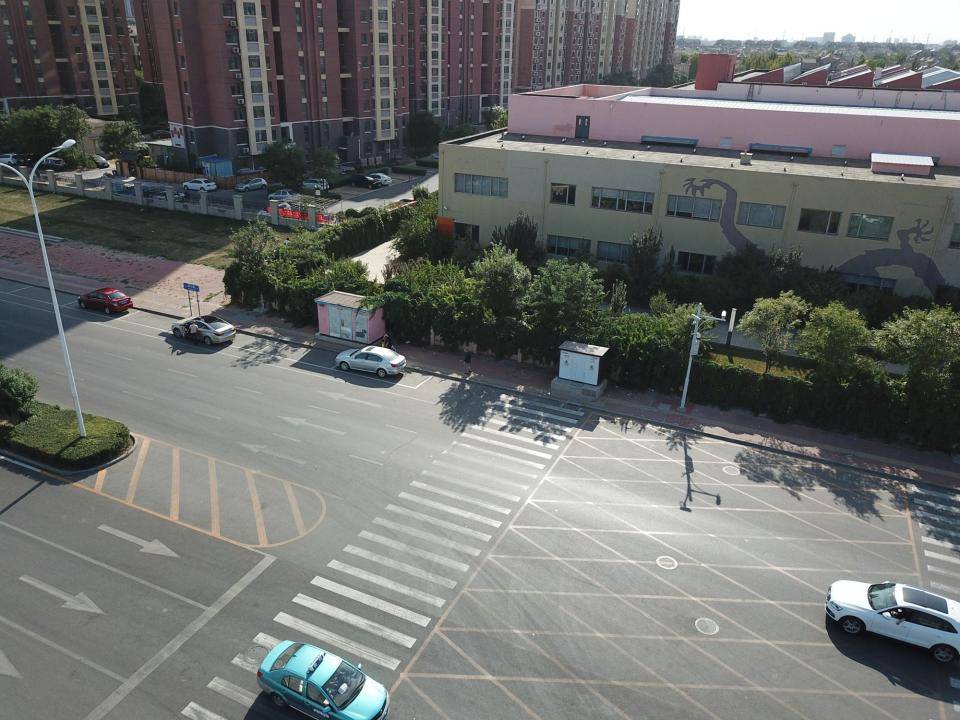car: (826, 578, 959, 663), (257, 639, 390, 720), (335, 346, 407, 377), (171, 315, 236, 345), (77, 287, 133, 314), (256, 202, 292, 220), (349, 173, 382, 190), (235, 177, 267, 193), (120, 185, 153, 200), (152, 191, 186, 205), (296, 177, 329, 191), (182, 178, 217, 191), (34, 157, 66, 171), (268, 188, 300, 202), (100, 184, 133, 197), (16, 152, 44, 167), (86, 154, 110, 168), (364, 173, 392, 185), (150, 129, 175, 140), (0, 153, 20, 166), (432, 152, 454, 160)
